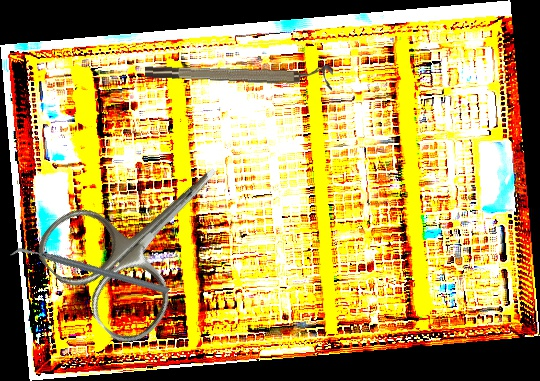Chopper: (8, 196, 171, 347)
Fixation Ring: (144, 55, 334, 91)
Iris Scissors: (26, 116, 267, 355)
